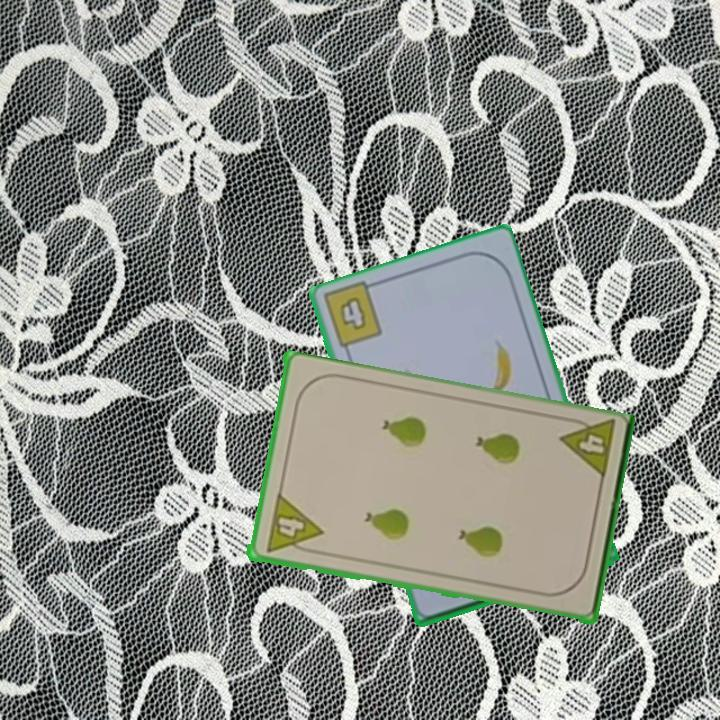4b: (335, 292, 369, 333)
4p: (555, 413, 618, 484), (262, 492, 324, 558)
